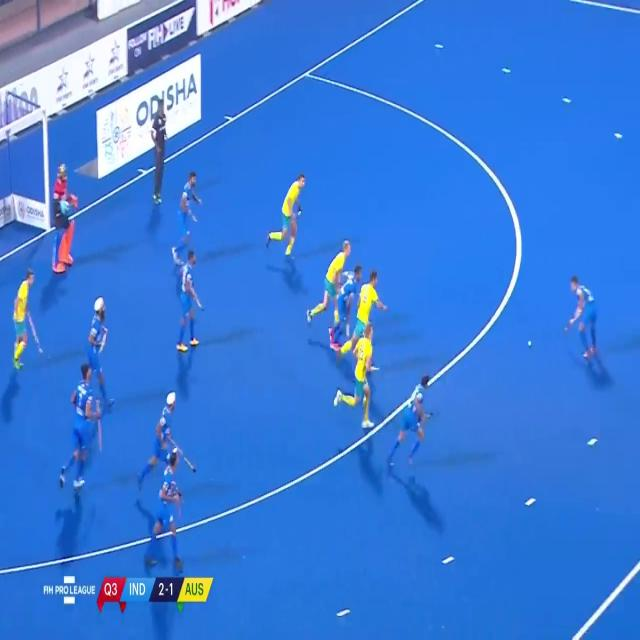ball: (528, 336, 533, 351)
